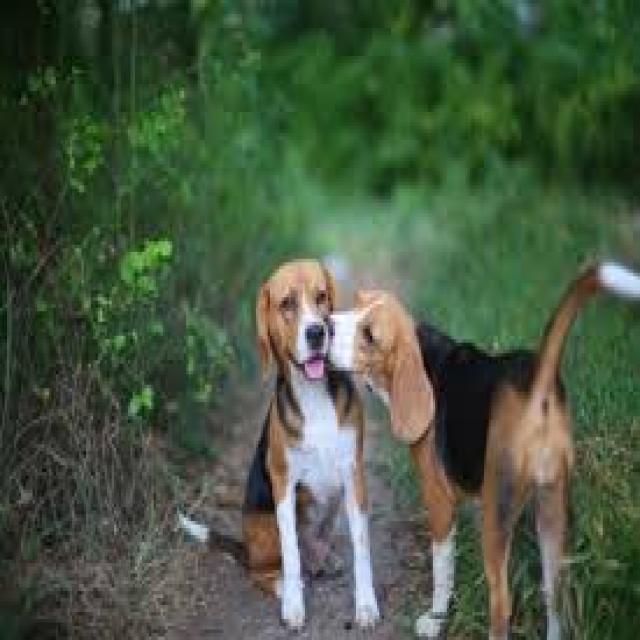Dog: (326, 258, 640, 639), (173, 252, 381, 631)
